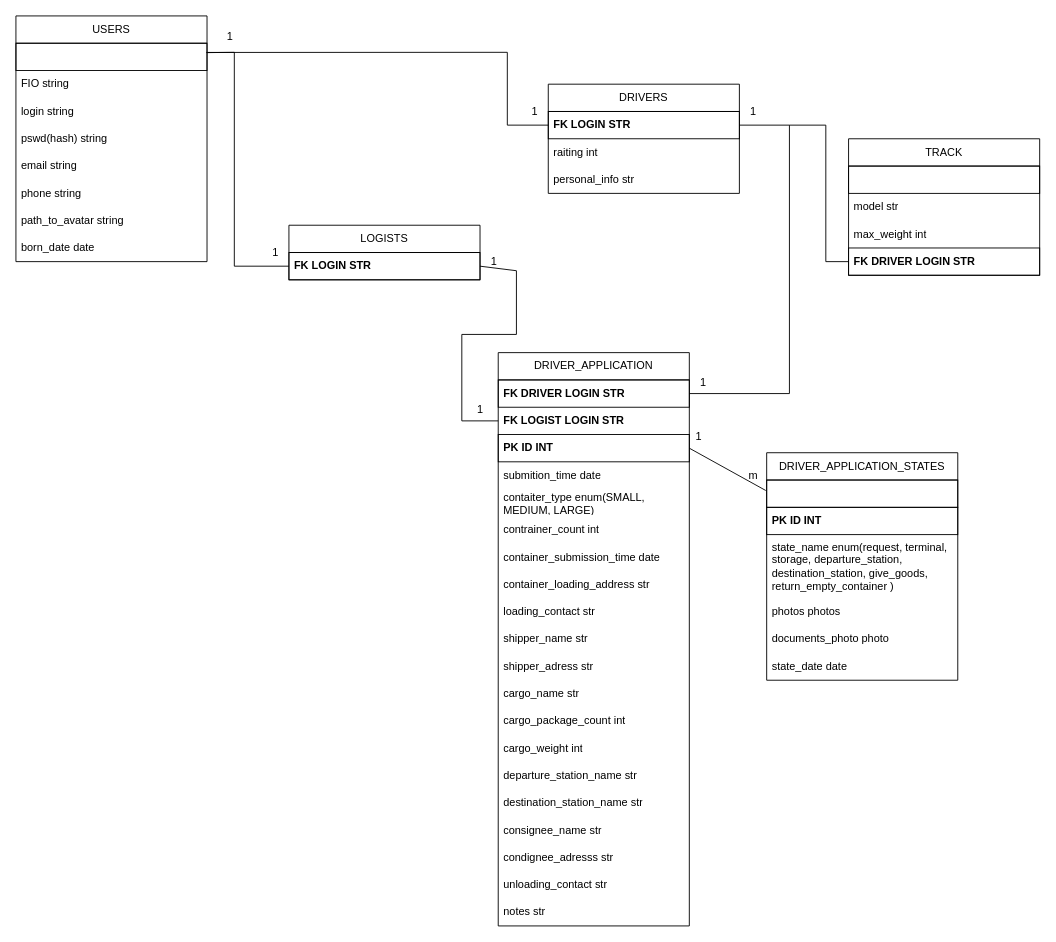
The diagram is 1056 pixels wide and 942 high, and some of its shapes have lost their labels. Each missing label, with the centre of its shape:
"FK DRIVER_APPLICATION" belongs at point 862,493.
"GRZ PK STRING" belongs at point 944,179.
"LOGIN STR" belongs at point 111,56.
